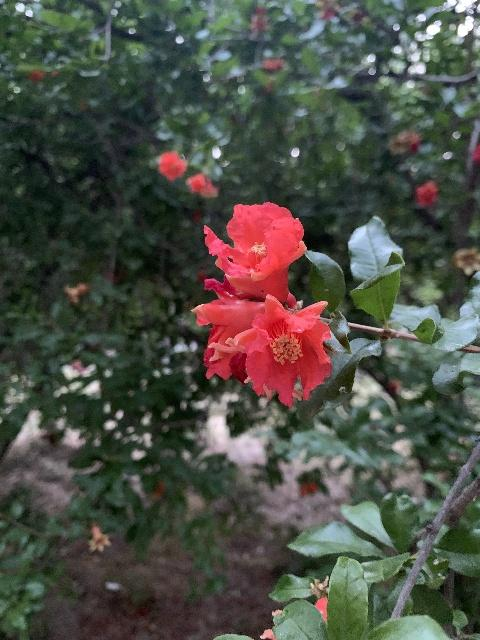early-fruit: (87, 524, 112, 552), (64, 283, 90, 306)
flower: (235, 293, 333, 407), (203, 200, 306, 303), (189, 290, 266, 380), (158, 151, 187, 181), (414, 181, 439, 207), (186, 173, 205, 195)
